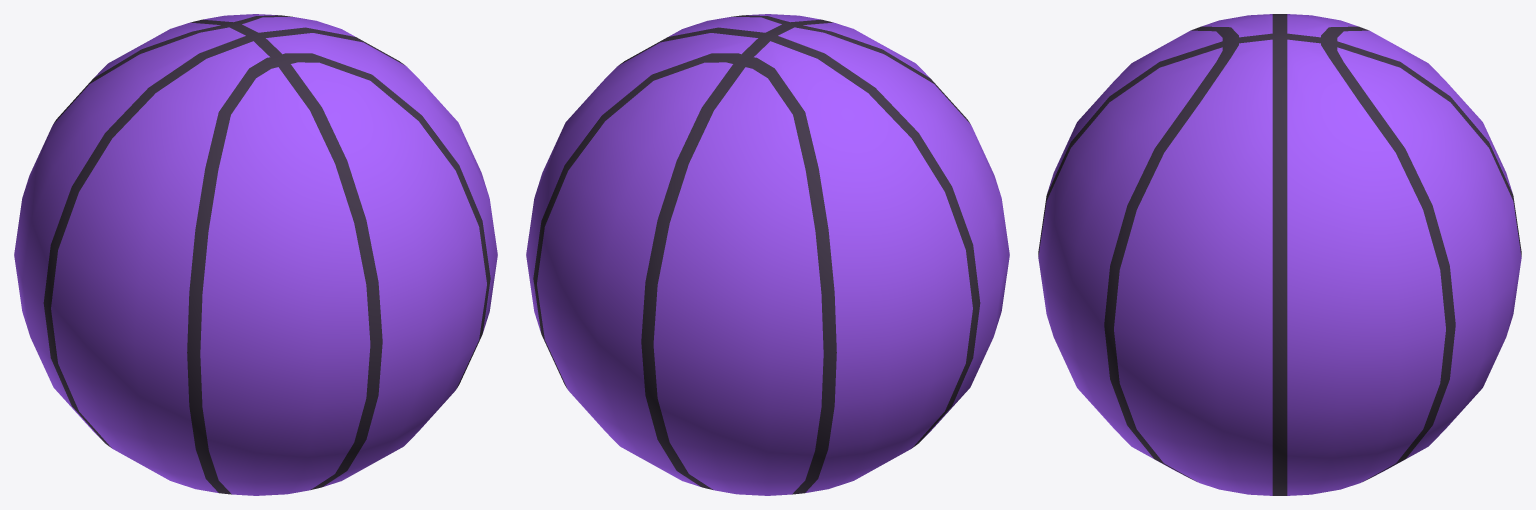
Rendered from basketball_Purple.fbx.
3 views of the same model, side by side, from view 1: azimuth 30°, elevation 25°; view 2: azimuth 150°, elevation 25°; view 3: azimuth 270°, elevation 25° (orthographic).
Parts seen in each view (by area): view 1: basketball_Purple; view 2: basketball_Purple; view 3: basketball_Purple.
Part boxes in pixels (x1,y1,x2,y2): basketball_Purple: (14, 14, 497, 495); basketball_Purple: (526, 14, 1009, 495); basketball_Purple: (1038, 14, 1521, 495).
Bounding box in the file's own units: 95.63 × 95.47 × 95.72.
